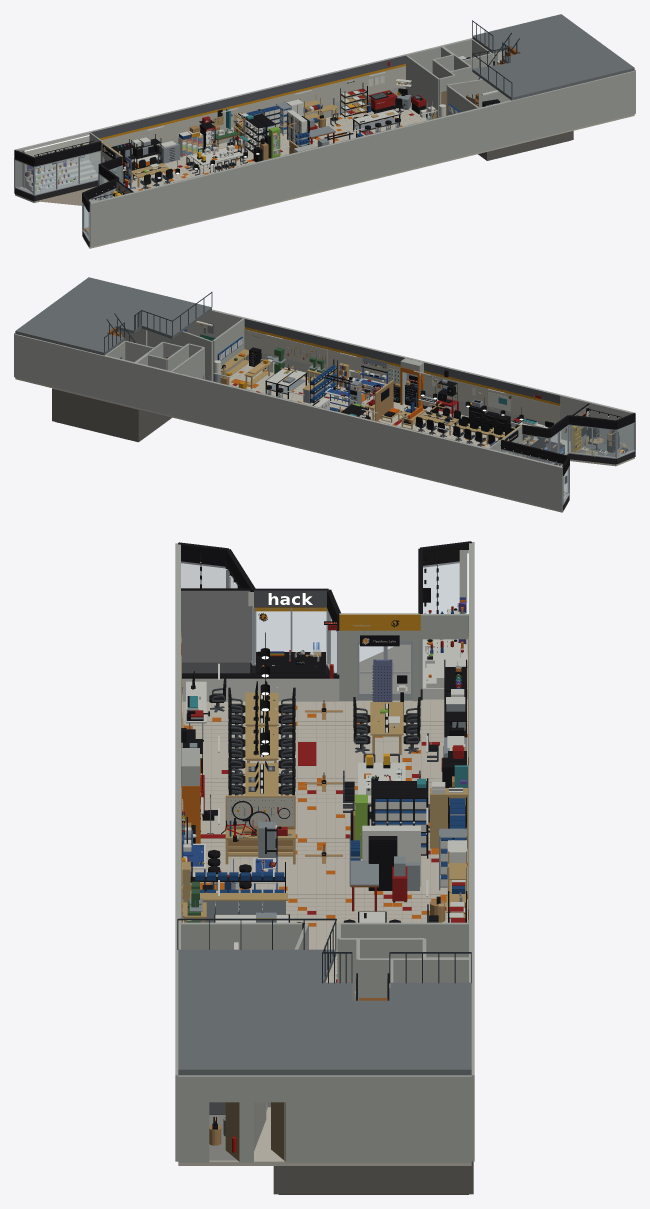
File: lab.glb
3 renders of one model, top to bottom at view 1: azimuth 30°, elevation 25°; view 2: azimuth 150°, elevation 25°; view 3: azimuth 270°, elevation 25°, orthographic. The views are drawn at different scales.
Visible parts, largest first — view 1: b5, b8, b4, b2, b0, b7, m18, b3, b6, b1; view 2: b5, b8, b4, b2, b7, b0, b6, m18, b3, b1; view 3: b2, b8, b10, b4, b1, b5, b0, b7, b9, m18, b3, b6.
Boxes of the visible parts, bbox=[...] form: b5: bbox=[14, 38, 635, 247]; b8: bbox=[459, 14, 634, 160]; b4: bbox=[91, 55, 473, 184]; b2: bbox=[15, 100, 634, 248]; b0: bbox=[14, 133, 133, 246]; b7: bbox=[396, 46, 512, 159]; m18: bbox=[16, 83, 420, 237]; b3: bbox=[178, 108, 299, 174]; b6: bbox=[340, 61, 437, 135]; b1: bbox=[70, 132, 161, 197]; b5: bbox=[14, 309, 635, 510]; b8: bbox=[15, 277, 211, 442]; b4: bbox=[172, 318, 560, 448]; b2: bbox=[15, 363, 634, 512]; b7: bbox=[134, 292, 248, 440]; b0: bbox=[500, 403, 635, 510]; b6: bbox=[213, 329, 327, 398]; m18: bbox=[444, 406, 633, 500]; b3: bbox=[361, 362, 471, 437]; b1: bbox=[488, 394, 564, 463]; b2: bbox=[178, 650, 471, 1165]; b8: bbox=[178, 919, 473, 1194]; b10: bbox=[178, 1075, 471, 1162]; b4: bbox=[181, 615, 468, 982]; b1: bbox=[181, 589, 468, 733]; b5: bbox=[175, 542, 474, 1161]; b0: bbox=[178, 541, 471, 700]; b7: bbox=[177, 918, 471, 1000]; b9: bbox=[209, 1102, 468, 1194]; m18: bbox=[181, 563, 459, 922]; b3: bbox=[181, 700, 468, 854]; b6: bbox=[182, 863, 468, 982].
Size of the model in its own units: 811 by 137 by 192.
